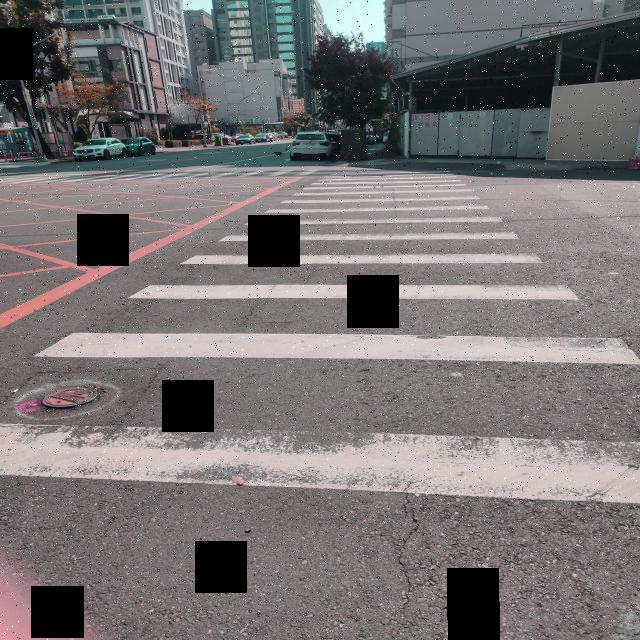zebra crossing: (0, 168, 640, 495), (3, 168, 323, 184)
